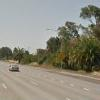Tree: (44, 4, 100, 69)
